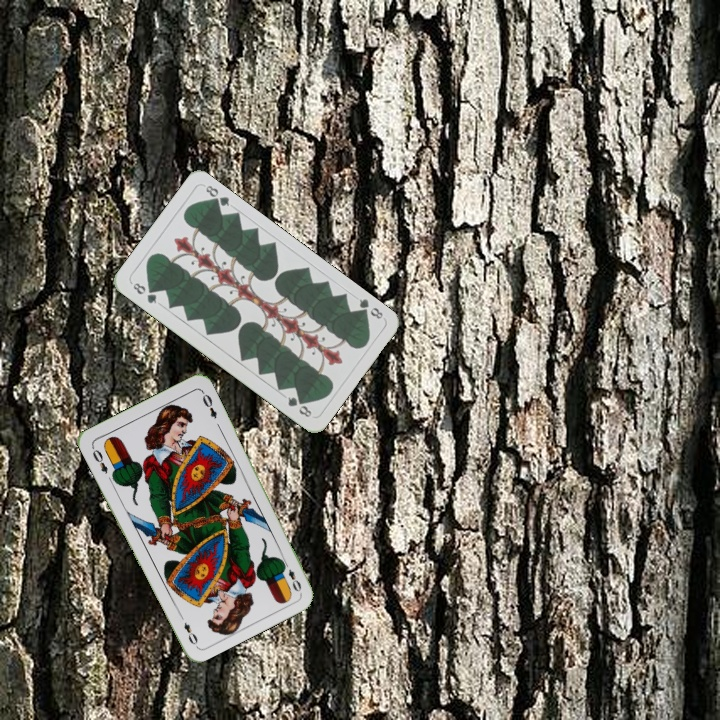EO: (279, 557, 304, 595), (88, 443, 110, 476)
G8: (353, 294, 386, 322), (127, 278, 159, 306)
